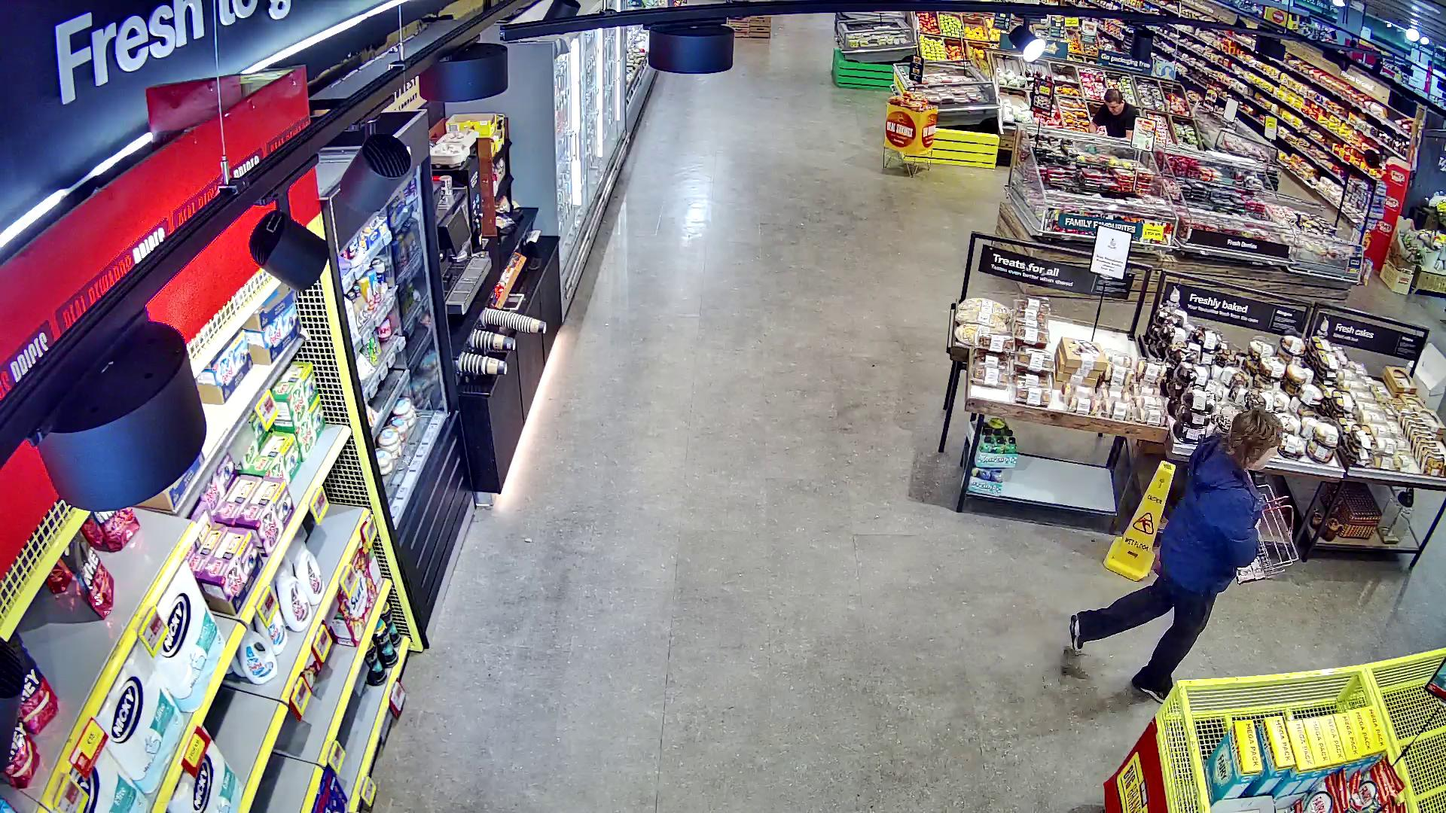empty-basket: (1237, 483, 1300, 585)
person: (1069, 407, 1282, 705)
person-with-empty-basket-trolly: (1069, 405, 1299, 699)
